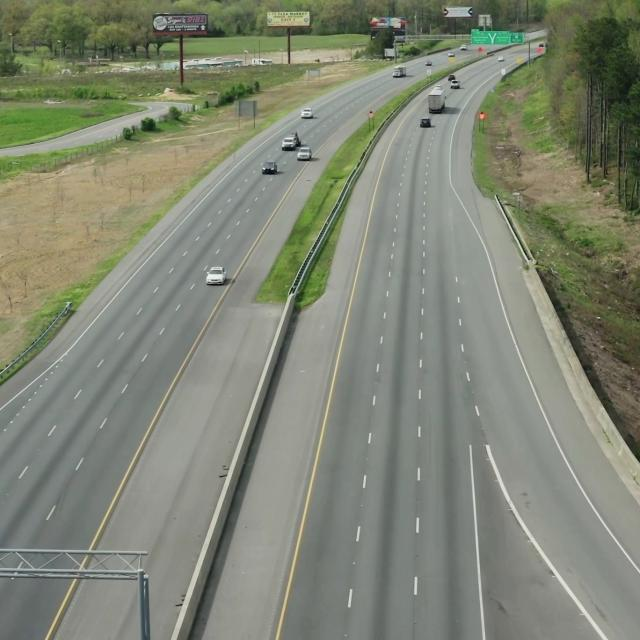Car: (206, 260, 228, 289)
